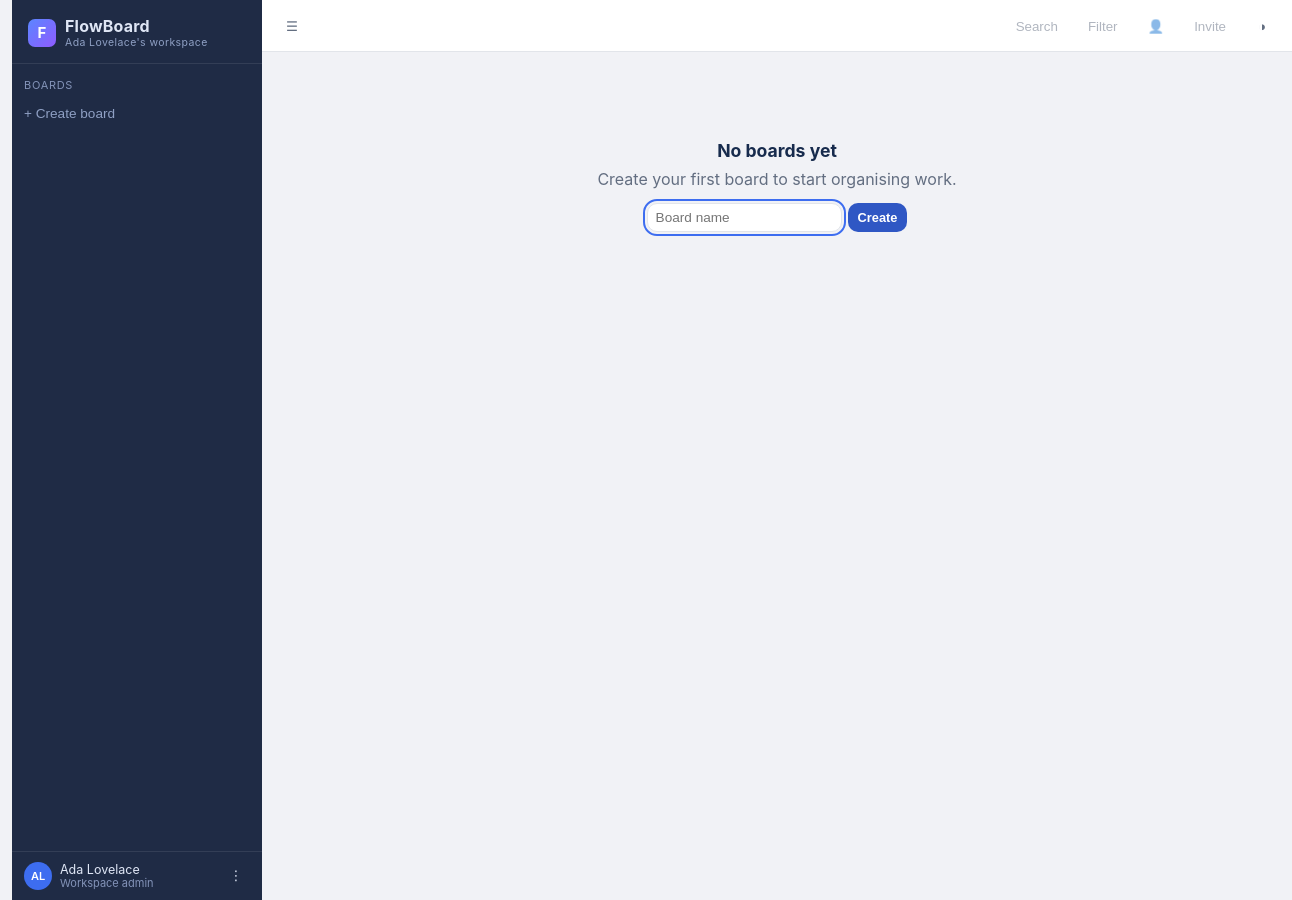
index route (FB-04 spec §4 item 15) › signing out from the footer menu clears the session and navigates to /login
Expected: the text "Ada Lovelace" is shown, [60,862,140,877]
Click the button named "User menu" at (236, 876), box [222,862,250,890]
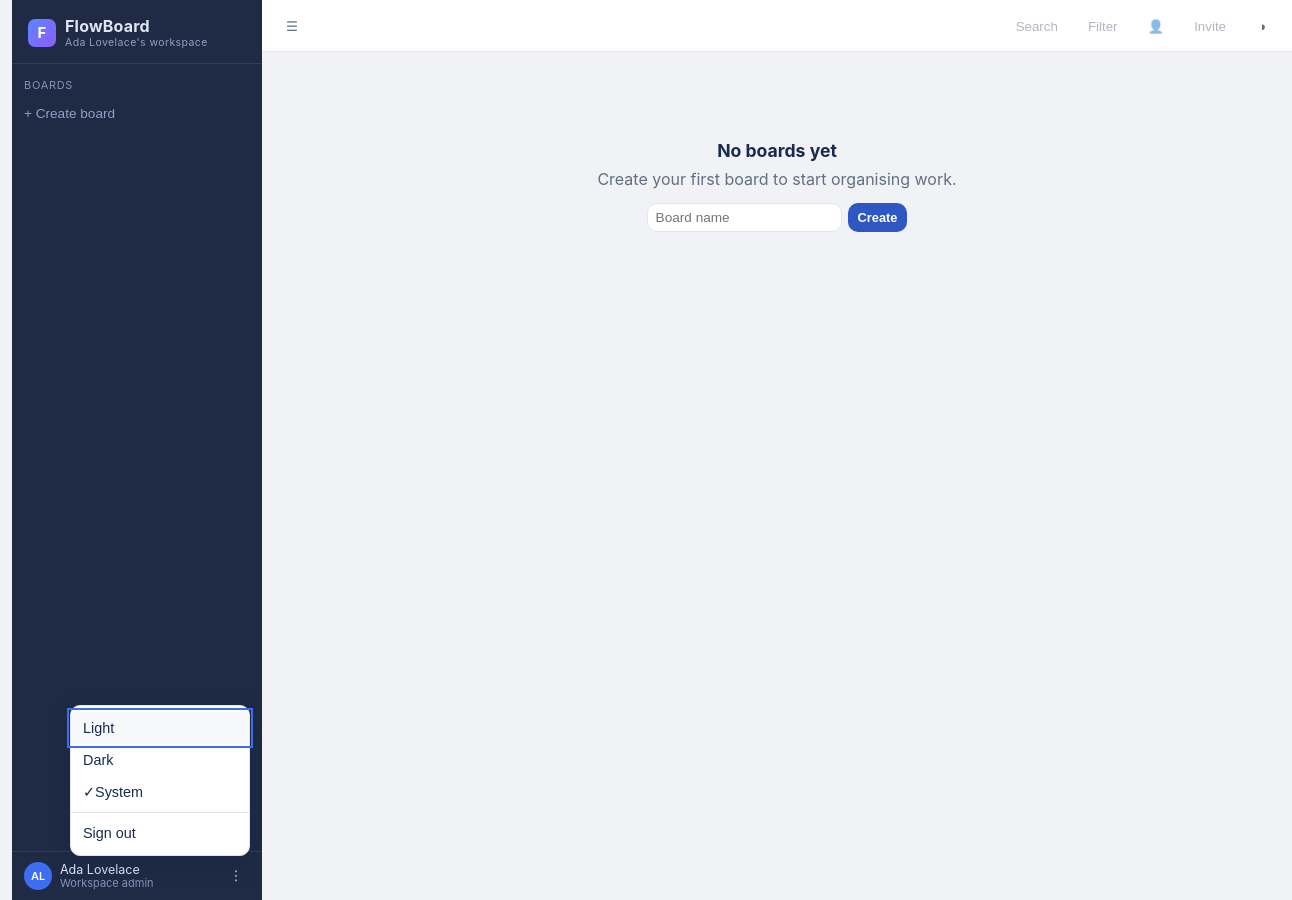
Click the menu item "Sign out" at (160, 833), box [71,817,249,849]
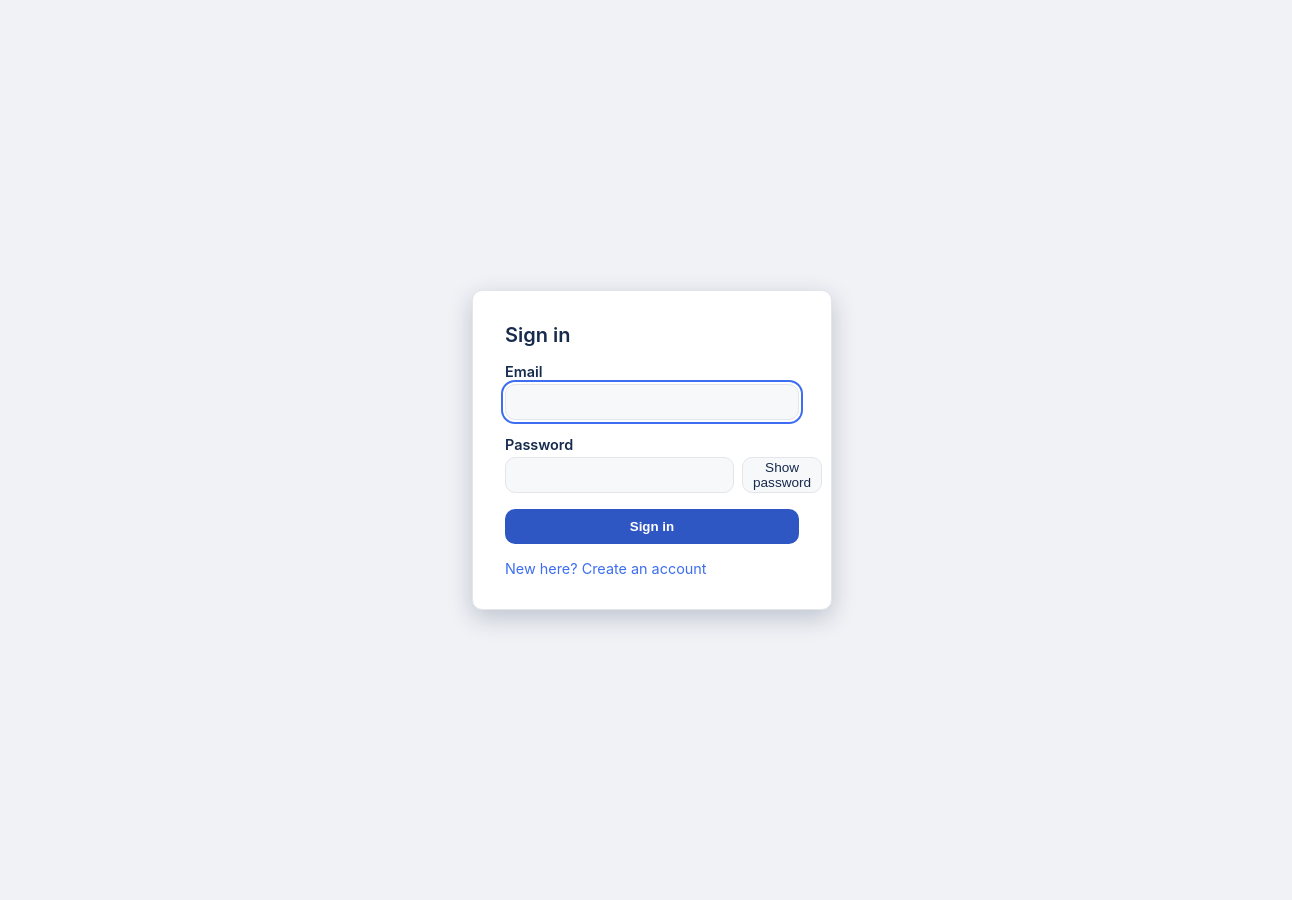
Result: the heading "Sign in" is shown at [505,323,570,347]
